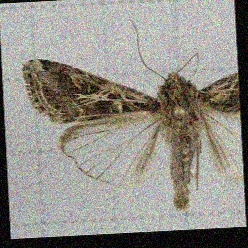Spodoptera litura: (23, 19, 240, 214)
